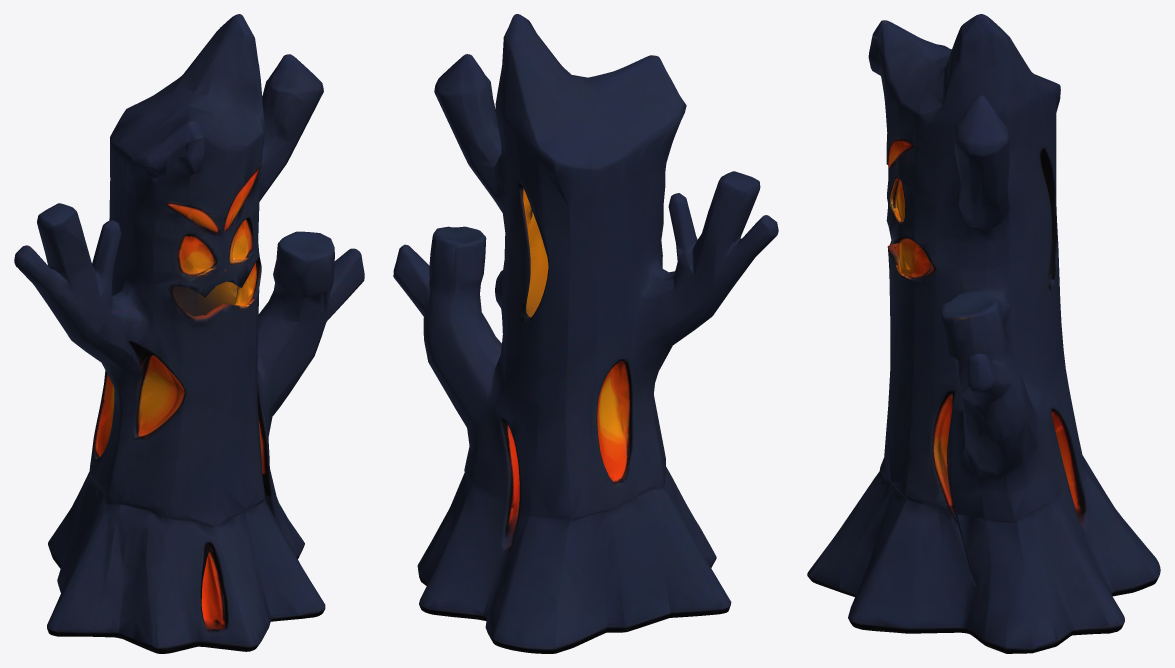
The model's file is spooky-tree.glb.
The picture shows the model from 3 angles, left to right: view 1: azimuth 30°, elevation 25°; view 2: azimuth 150°, elevation 25°; view 3: azimuth 270°, elevation 25°; orthographic projection. The views are drawn at different scales.
Visible parts, largest first — view 1: node_0; view 2: node_0; view 3: node_0.
Part boxes in pixels (box(x1,y1,x2,y2)): node_0: box(14, 14, 364, 653); node_0: box(393, 14, 778, 653); node_0: box(807, 14, 1160, 653).
Size of the model in its own units: 0.7216 by 1.06 by 0.5653.
1 material, 1 textured.
